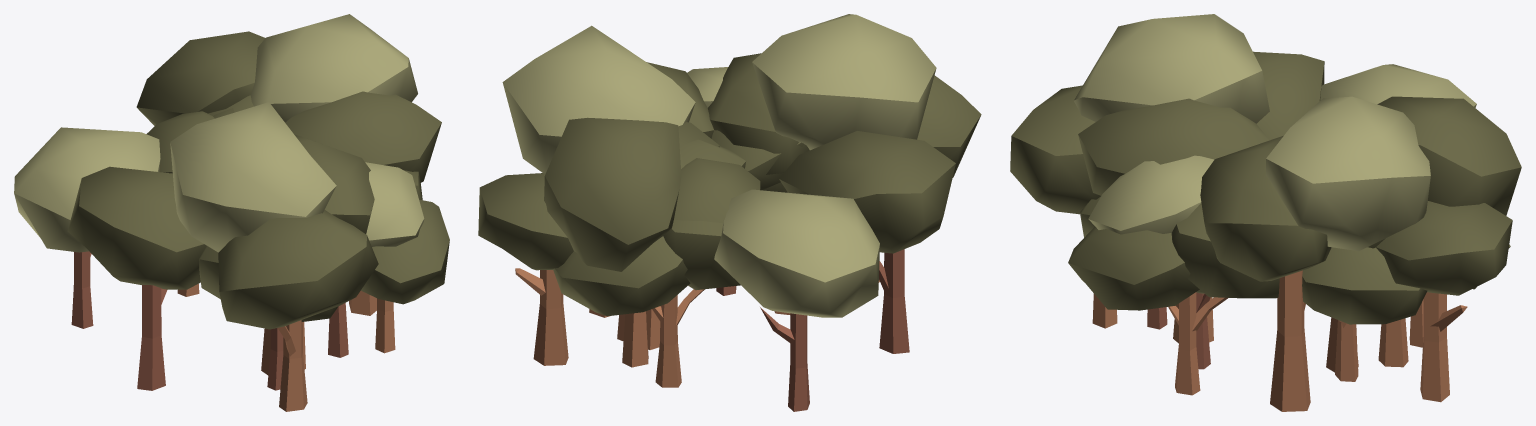
Rendered from tree_lot1.fbx.
3 renders of one model, left to right at view 1: azimuth 30°, elevation 25°; view 2: azimuth 150°, elevation 25°; view 3: azimuth 270°, elevation 25°, orthographic. The views are drawn at different scales.
Visible parts, largest first — view 1: tree_lot1; view 2: tree_lot1; view 3: tree_lot1.
Boxes of the visible parts, x1=… form: tree_lot1: x1=14, y1=14, x2=449, y2=411; tree_lot1: x1=478, y1=14, x2=981, y2=411; tree_lot1: x1=1010, y1=14, x2=1521, y2=411.
Bounding box in the file's own units: 9.88 × 11.09 × 7.08.
